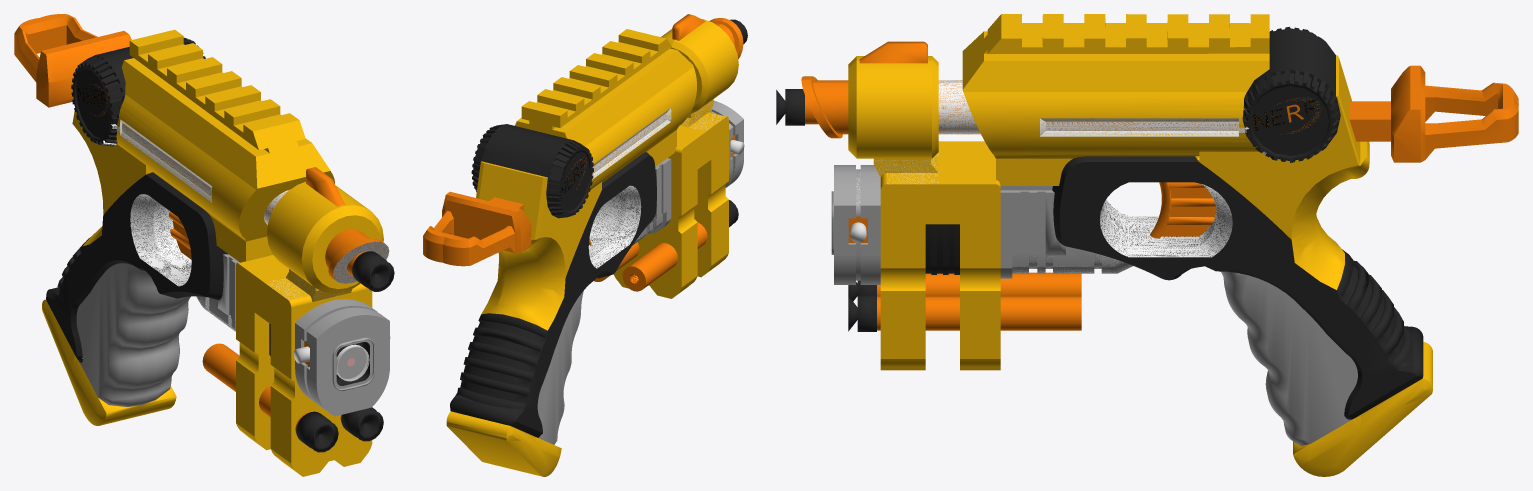
3 views of the same model, side by side, from view 1: azimuth 30°, elevation 25°; view 2: azimuth 150°, elevation 25°; view 3: azimuth 270°, elevation 25° (orthographic). The views are drawn at different scales.
Visible parts, largest first — view 1: Nitefinder (×20), Component_11 (×6); view 2: Nitefinder (×20), Component_11; view 3: Nitefinder (×19), Component_11 (×2).
Boxes of the visible parts, box(x1,y1,x2,y2) form: Nitefinder (×20): box(14, 14, 389, 476); Component_11 (×6): box(202, 251, 394, 452); Nitefinder (×20): box(423, 15, 743, 476); Component_11: box(622, 222, 707, 291); Nitefinder (×19): box(811, 14, 1518, 476); Component_11 (×2): box(877, 272, 1081, 330).
Size of the model in its own units: 1.62 by 9.52 by 6.11.
